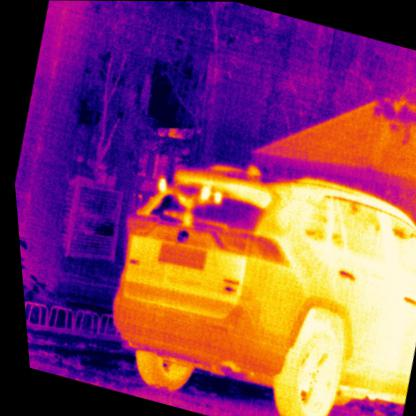drone: (144, 171, 222, 233)
vehicle: (73, 128, 415, 415)
